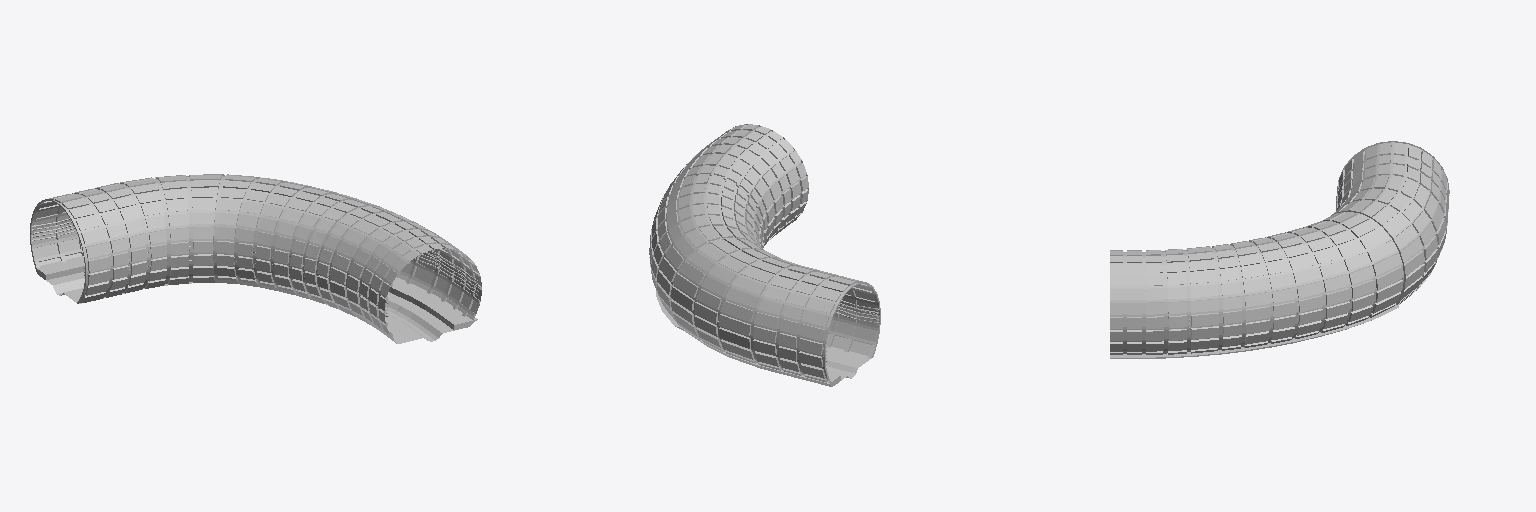
The model's file is tunnel1TurnLeft.obj.
3 views of the same model, side by side, from view 1: azimuth 30°, elevation 25°; view 2: azimuth 150°, elevation 25°; view 3: azimuth 270°, elevation 25° (orthographic).
Parts seen in each view (by area): view 1: Cylinder_Cylinder.001, Cylinder.010_Cylinder.003_Cylinder.010_Cylinder.007; view 2: Cylinder_Cylinder.001; view 3: Cylinder_Cylinder.001.
Part boxes in pixels (bbox=[...]): Cylinder_Cylinder.001: bbox=[30, 174, 481, 343]; Cylinder.010_Cylinder.003_Cylinder.010_Cylinder.007: bbox=[31, 218, 479, 316]; Cylinder_Cylinder.001: bbox=[649, 124, 880, 386]; Cylinder_Cylinder.001: bbox=[1110, 141, 1449, 358].
Bounding box in the file's own units: 2.6 × 0.8063 × 2.7.